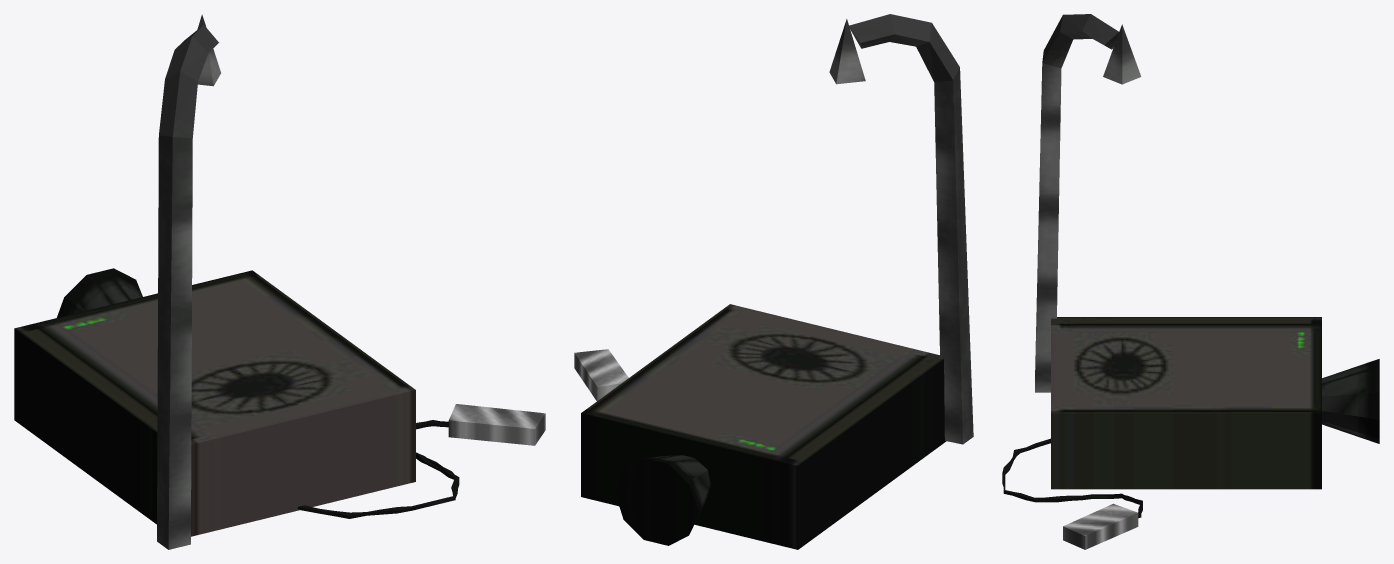
Rendered from Projector.glb.
3 renders of one model, left to right at view 1: azimuth 30°, elevation 25°; view 2: azimuth 150°, elevation 25°; view 3: azimuth 270°, elevation 25°, orthographic. The views are drawn at different scales.
Parts seen in each view (by area): view 1: Projector; view 2: Projector; view 3: Projector.
Boxes of the visible parts, box(x1,y1,x2,y2) form: Projector: box(14, 14, 545, 549); Projector: box(574, 14, 973, 549); Projector: box(1002, 14, 1379, 549).
Bounding box in the file's own units: 128 × 143 × 124.
1 material, 1 textured.
